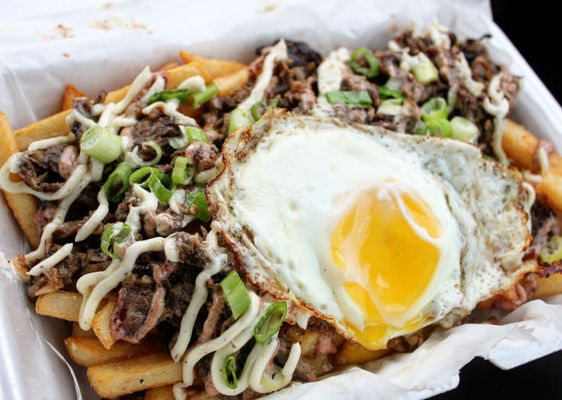soup: (0, 38, 552, 396), (214, 110, 560, 391)
